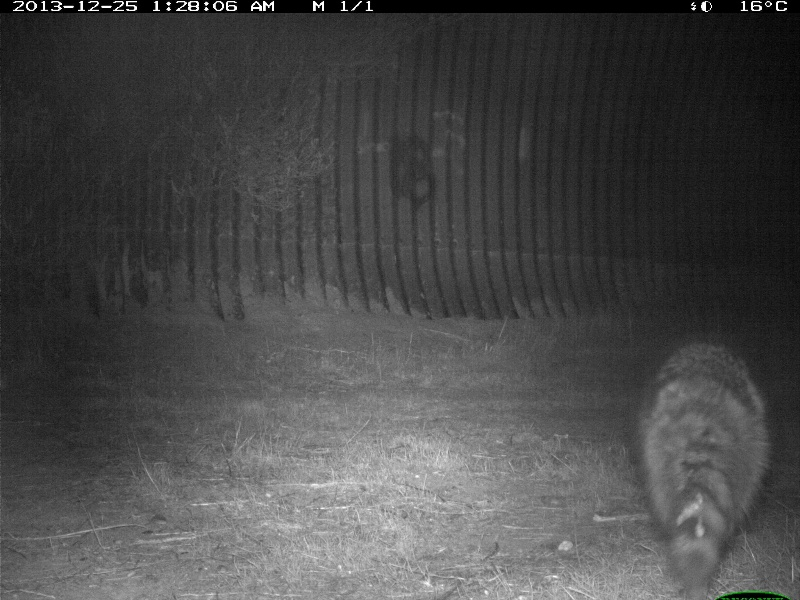raccoon: (634, 338, 773, 582)
